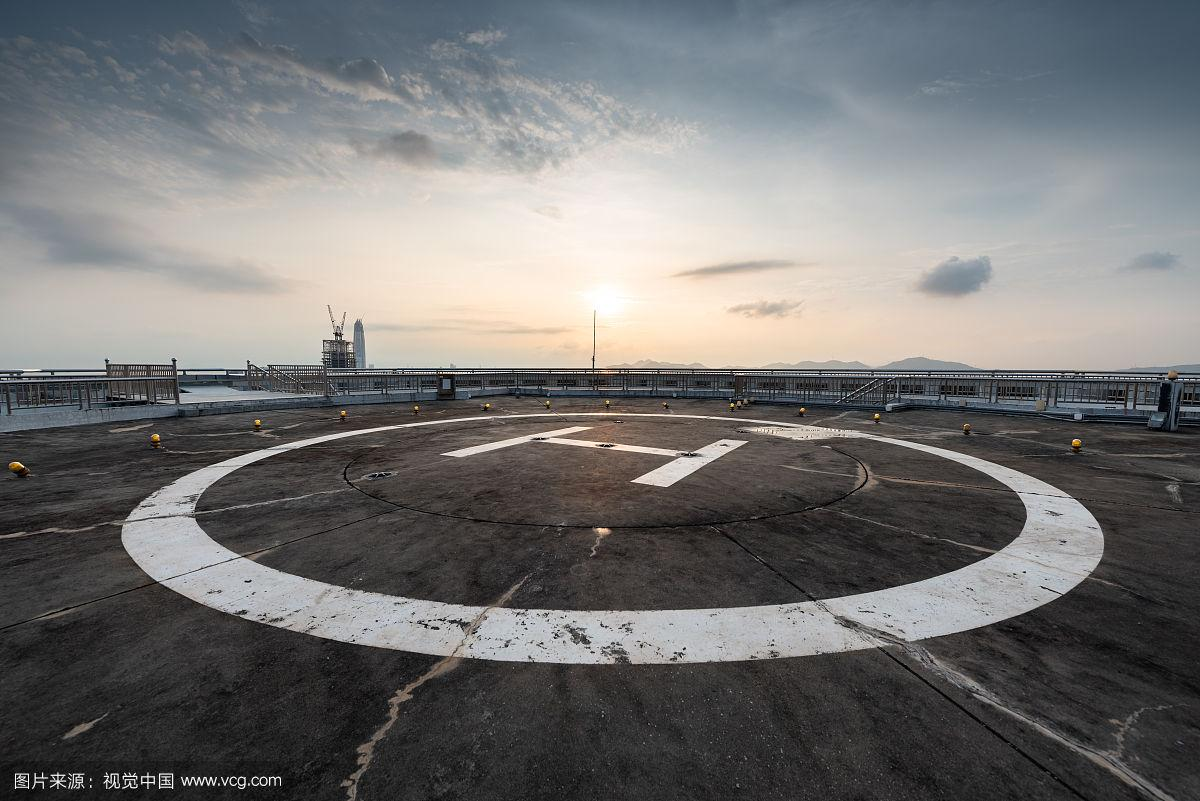Apron: (120, 409, 1104, 664)
